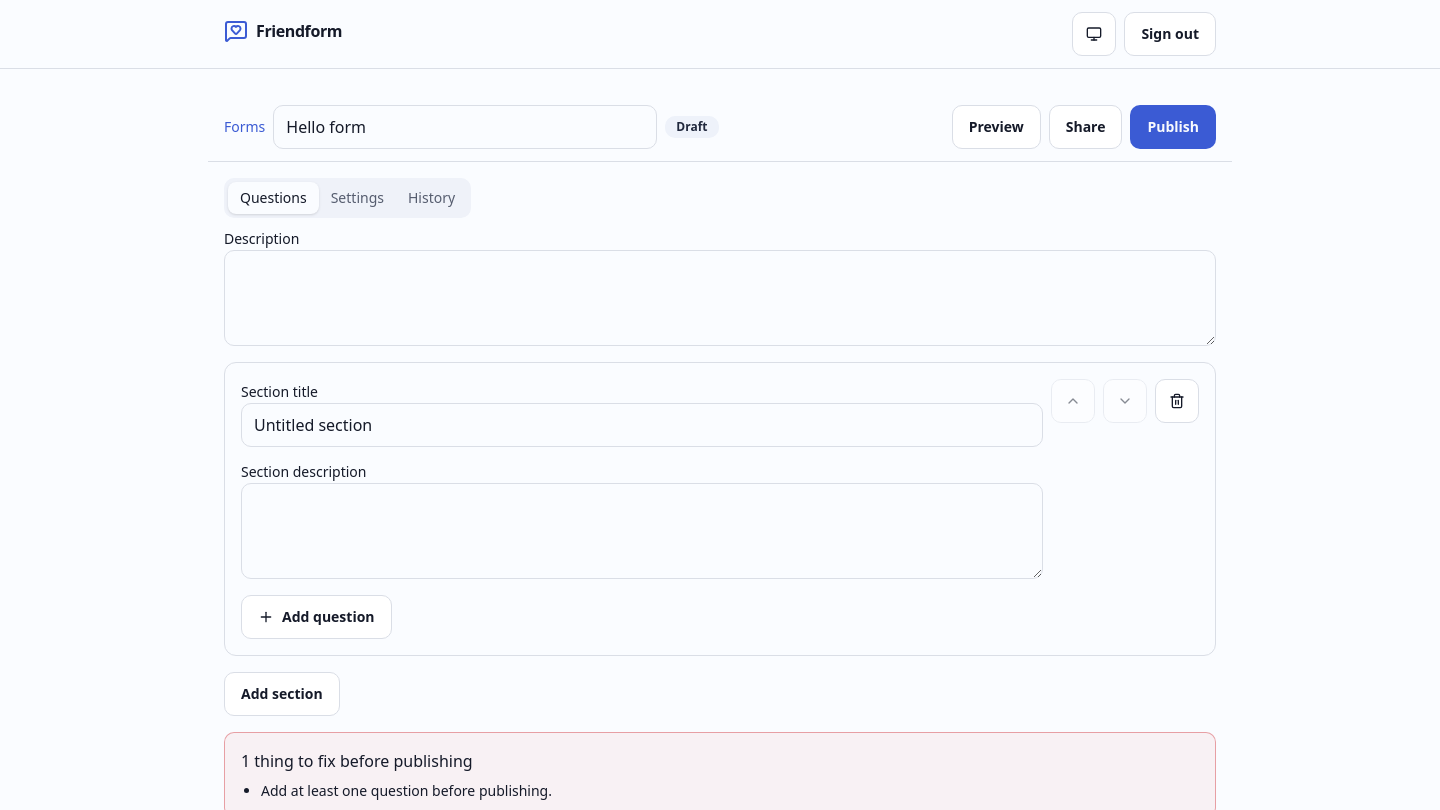
Test: EditorPage › toasts the live version after publish
The image size is (1440, 810).
Click the button "Publish" at {"x": 1173, "y": 127}, box [1130,105,1216,149]
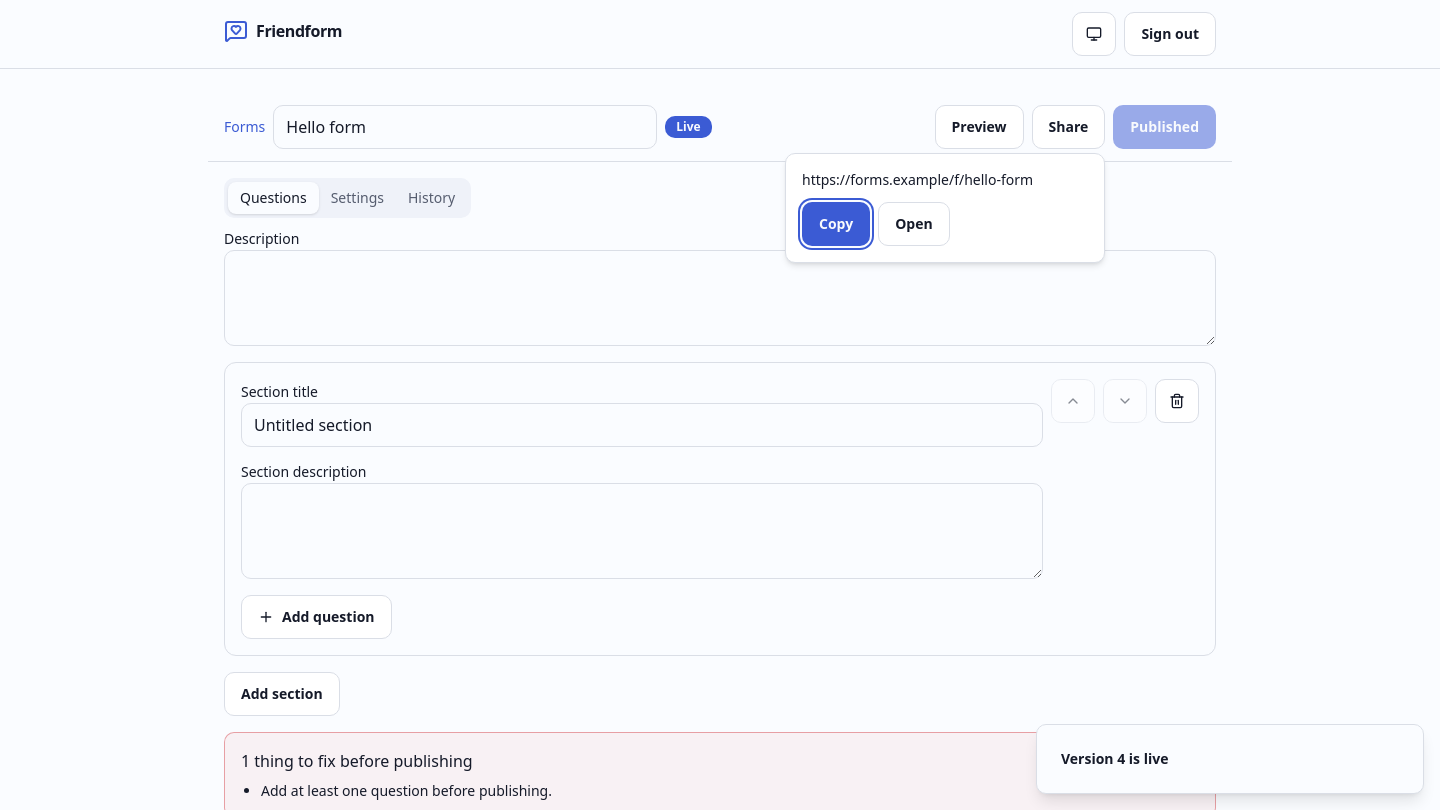
Expected: the text "Version 4 is live" is shown, [1061,749,1168,769]
Expected: the text "https://forms.example/f/hello-form" is shown, [802,170,1033,189]
